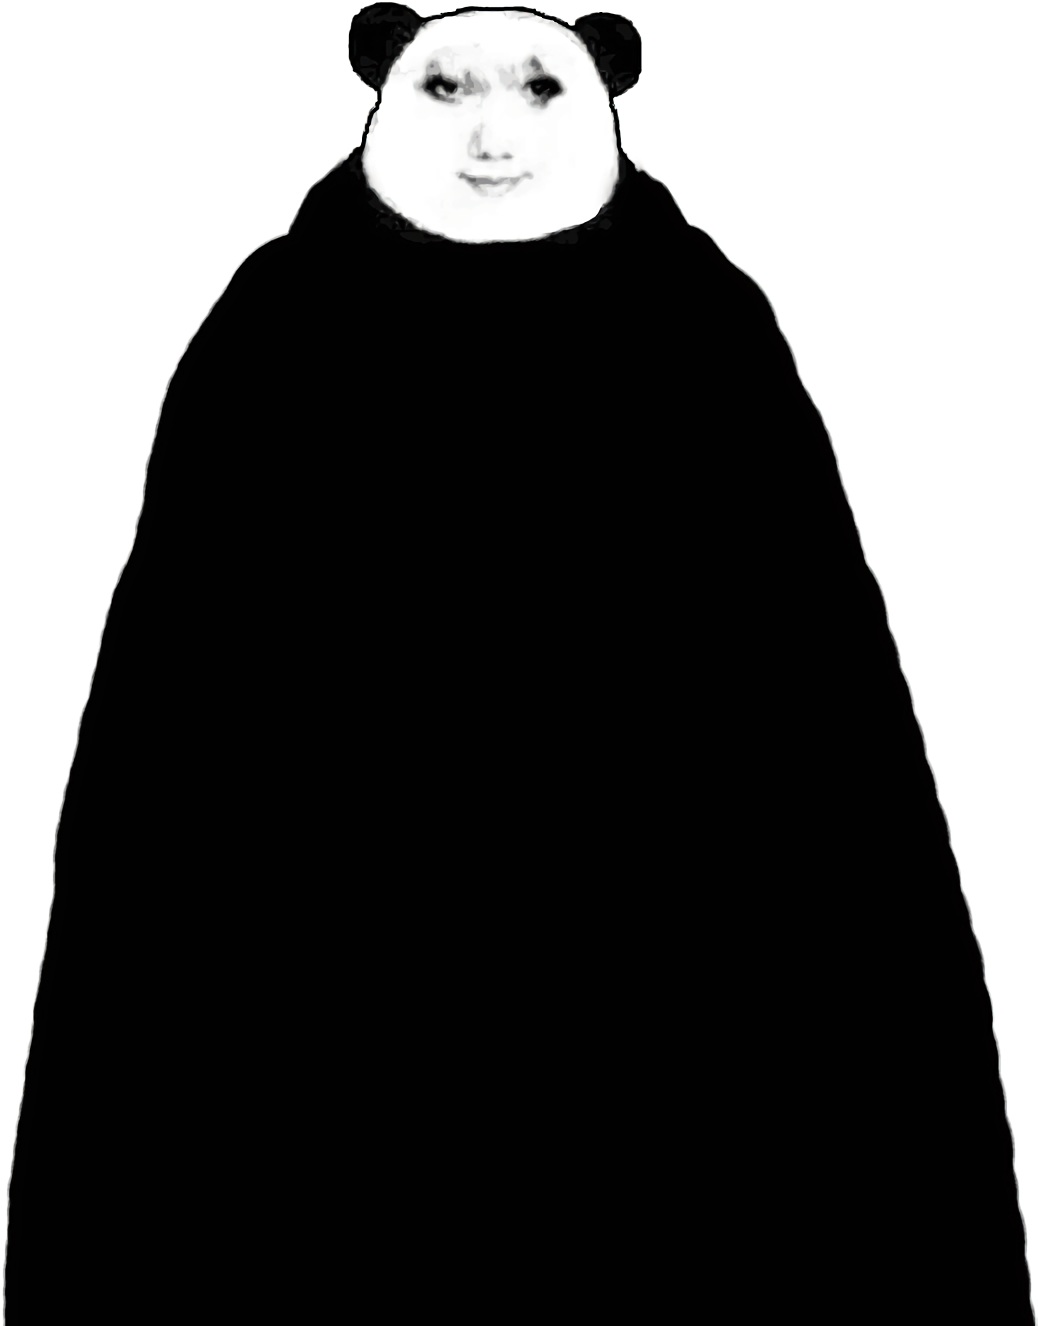dragon: (420, 38, 581, 218)
